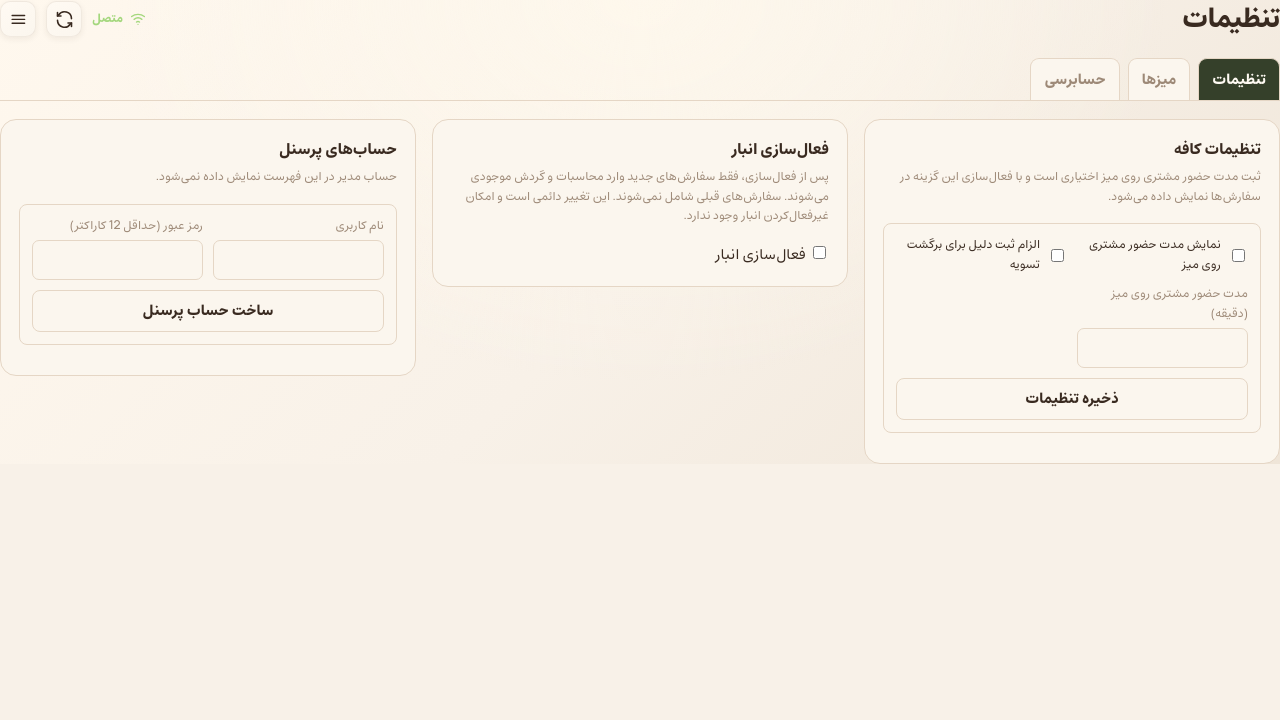
Test: ManagerWorkspace › confirms activation and locks the switch after the server accepts it
What coordinates should you click on to do the following:
click the checkbox labelled "فعال‌سازی انبار"
I would click on:
 (820, 252)
Its box is top-left (813, 246), bottom-right (826, 259).
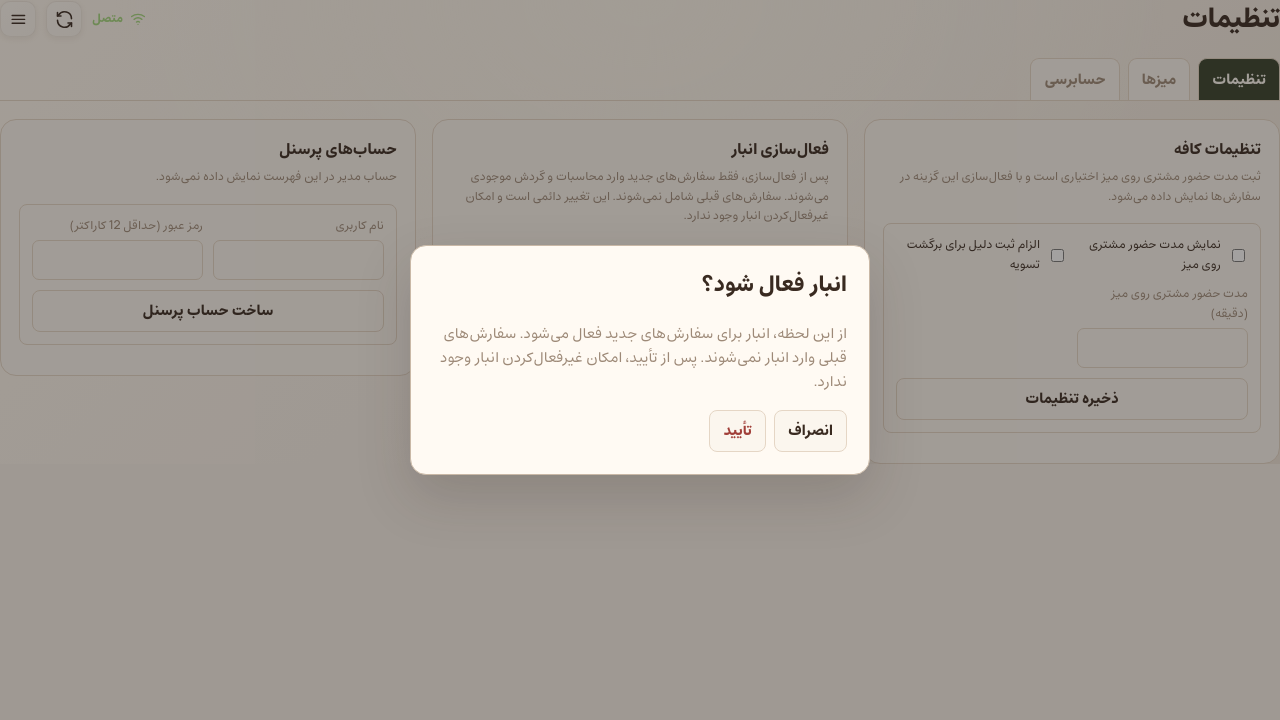
Expected: the dialog is shown
What coordinates should you click on to do the following:
click the button "تأیید"
I would click on:
 (738, 431)
Its box is top-left (709, 410), bottom-right (766, 452).
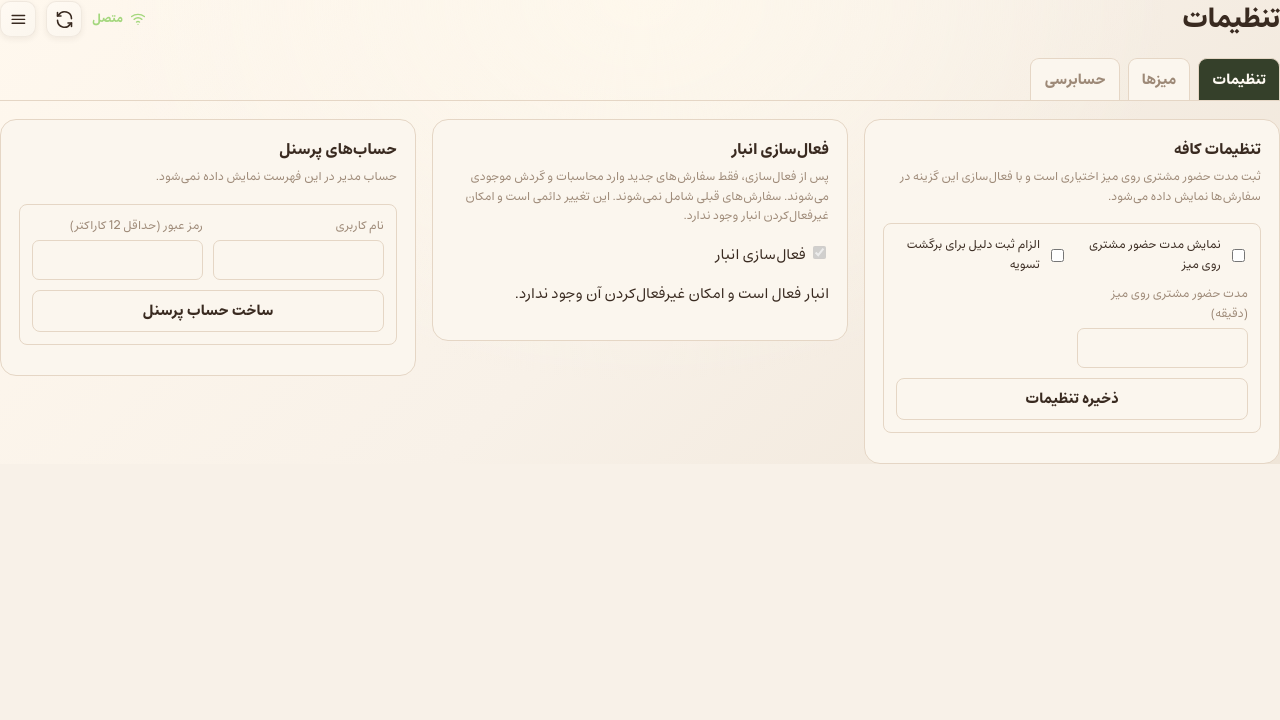
Expected: the checkbox labelled "فعال‌سازی انبار" is checked, top-left (813, 246), bottom-right (826, 259)
Expected: the checkbox labelled "فعال‌سازی انبار" is disabled, top-left (813, 246), bottom-right (826, 259)
